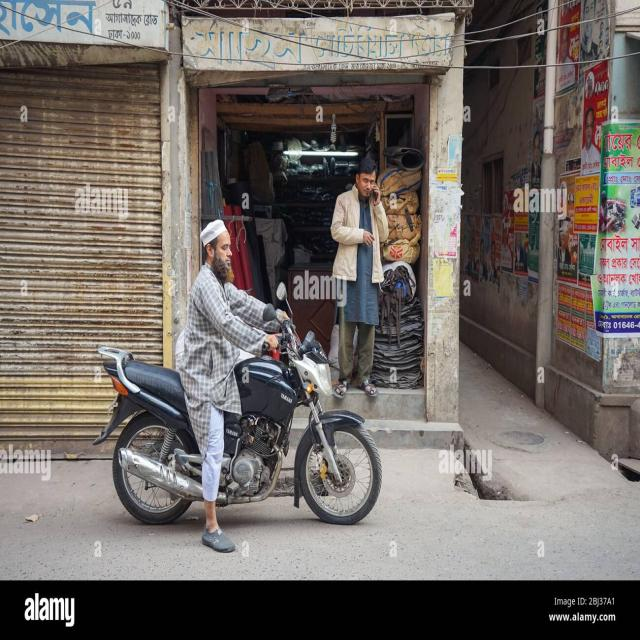bike: (82, 325, 392, 521)
